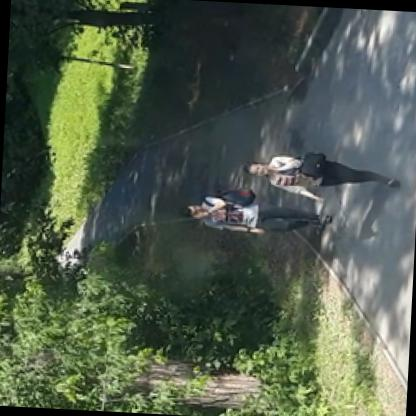Human Body: (239, 147, 406, 207), (178, 186, 330, 242)
